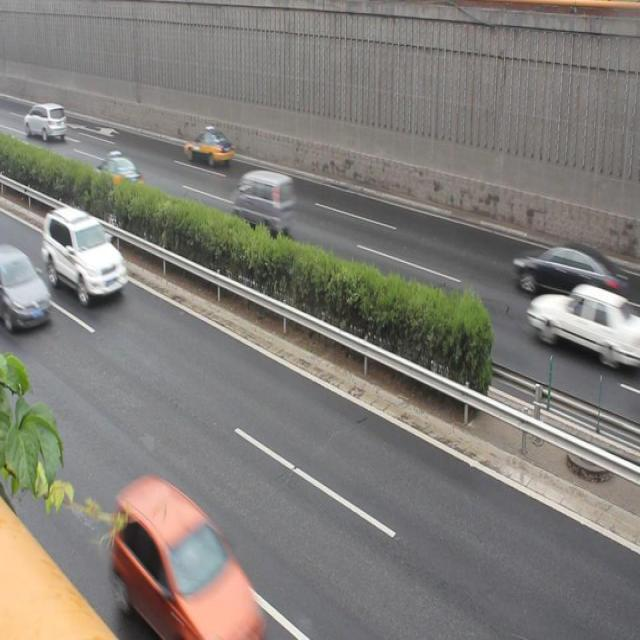car: (112, 482, 255, 640), (526, 286, 627, 360), (45, 208, 127, 298), (512, 241, 617, 303), (1, 244, 52, 327), (86, 154, 146, 204), (185, 126, 232, 170)
truck: (232, 168, 295, 232)
